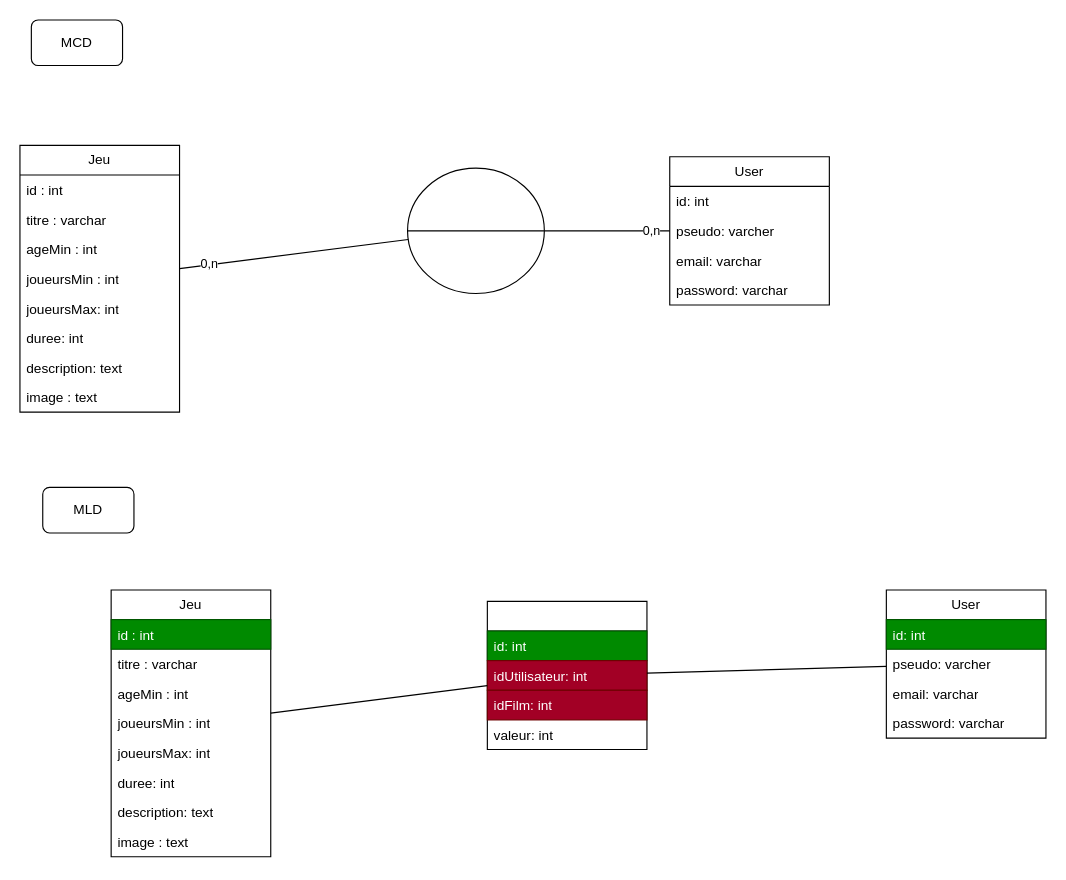
Some shapes in this 1066 by 880 pixel diagram are drawn without their labels. Here are the shapes that lost their labels. From the top down, the box of each, then its label:
(406, 167, 544, 294): Note valeur
(486, 600, 647, 750): Note
